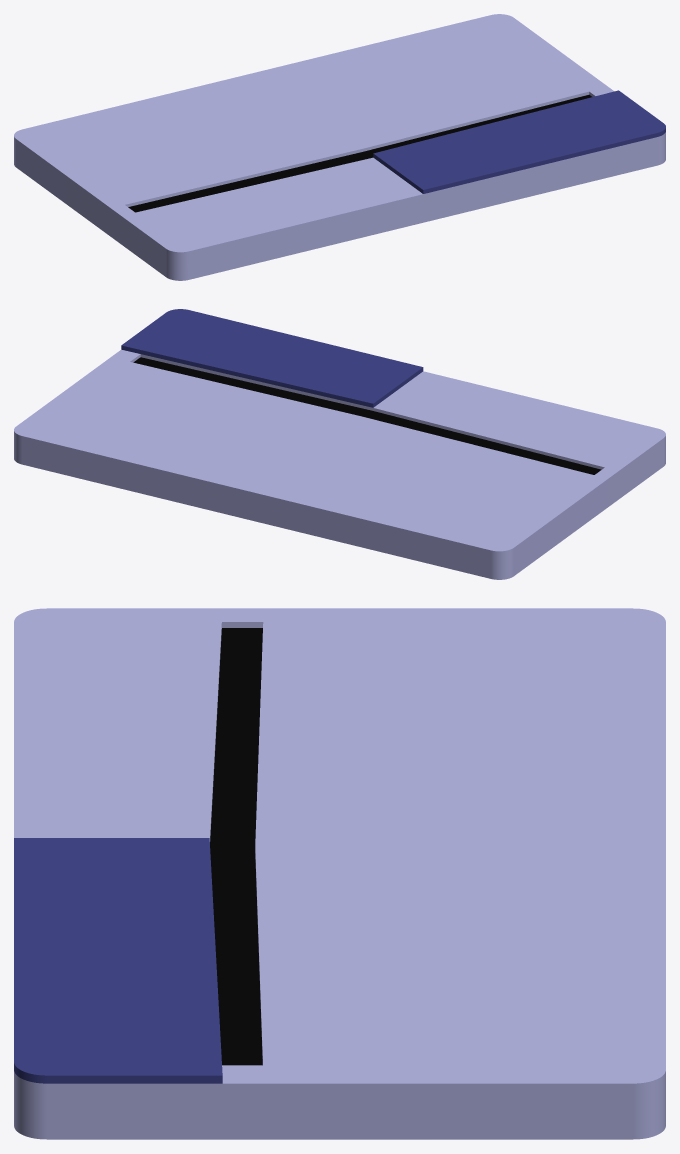
File: KeyCard.fbx
3 views of the same model, one above another, from view 1: azimuth 30°, elevation 25°; view 2: azimuth 150°, elevation 25°; view 3: azimuth 270°, elevation 25° (orthographic). The views are drawn at different scales.
Visible parts, largest first — view 1: pCube1; view 2: pCube1; view 3: pCube1.
Boxes of the visible parts, box(x1,y1,x2,y2) form: pCube1: box(14, 14, 665, 280); pCube1: box(14, 309, 665, 579); pCube1: box(14, 608, 665, 1139).
Bounding box in the file's own units: 1.72 × 0.1082 × 1.
